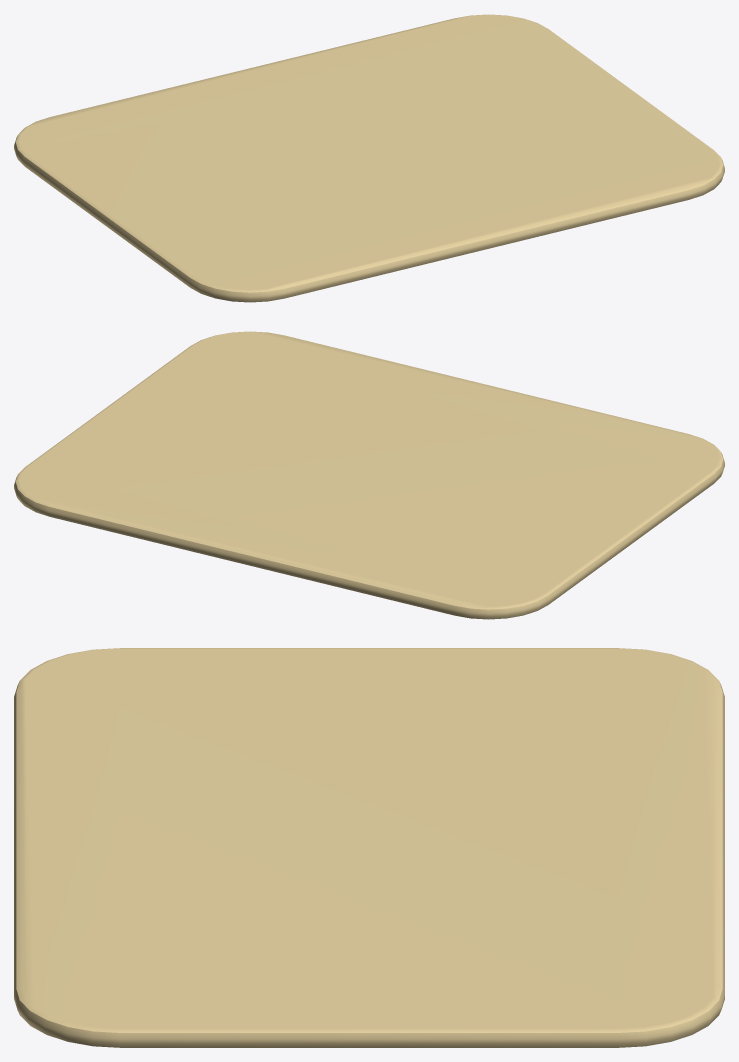
Rendered from card.glb.
3 views of the same model, one above another, from view 1: azimuth 30°, elevation 25°; view 2: azimuth 150°, elevation 25°; view 3: azimuth 270°, elevation 25° (orthographic). The views are drawn at different scales.
Visible parts, largest first — view 1: card_chip; view 2: card_chip; view 3: card_chip.
Boxes of the visible parts, x1,y1,x2,y2 form: card_chip: [14, 14, 724, 302]; card_chip: [14, 331, 724, 619]; card_chip: [14, 648, 724, 1047].
Size of what is drawn, in the model's own units: 0.0112 by 0.00026 by 0.0087.
